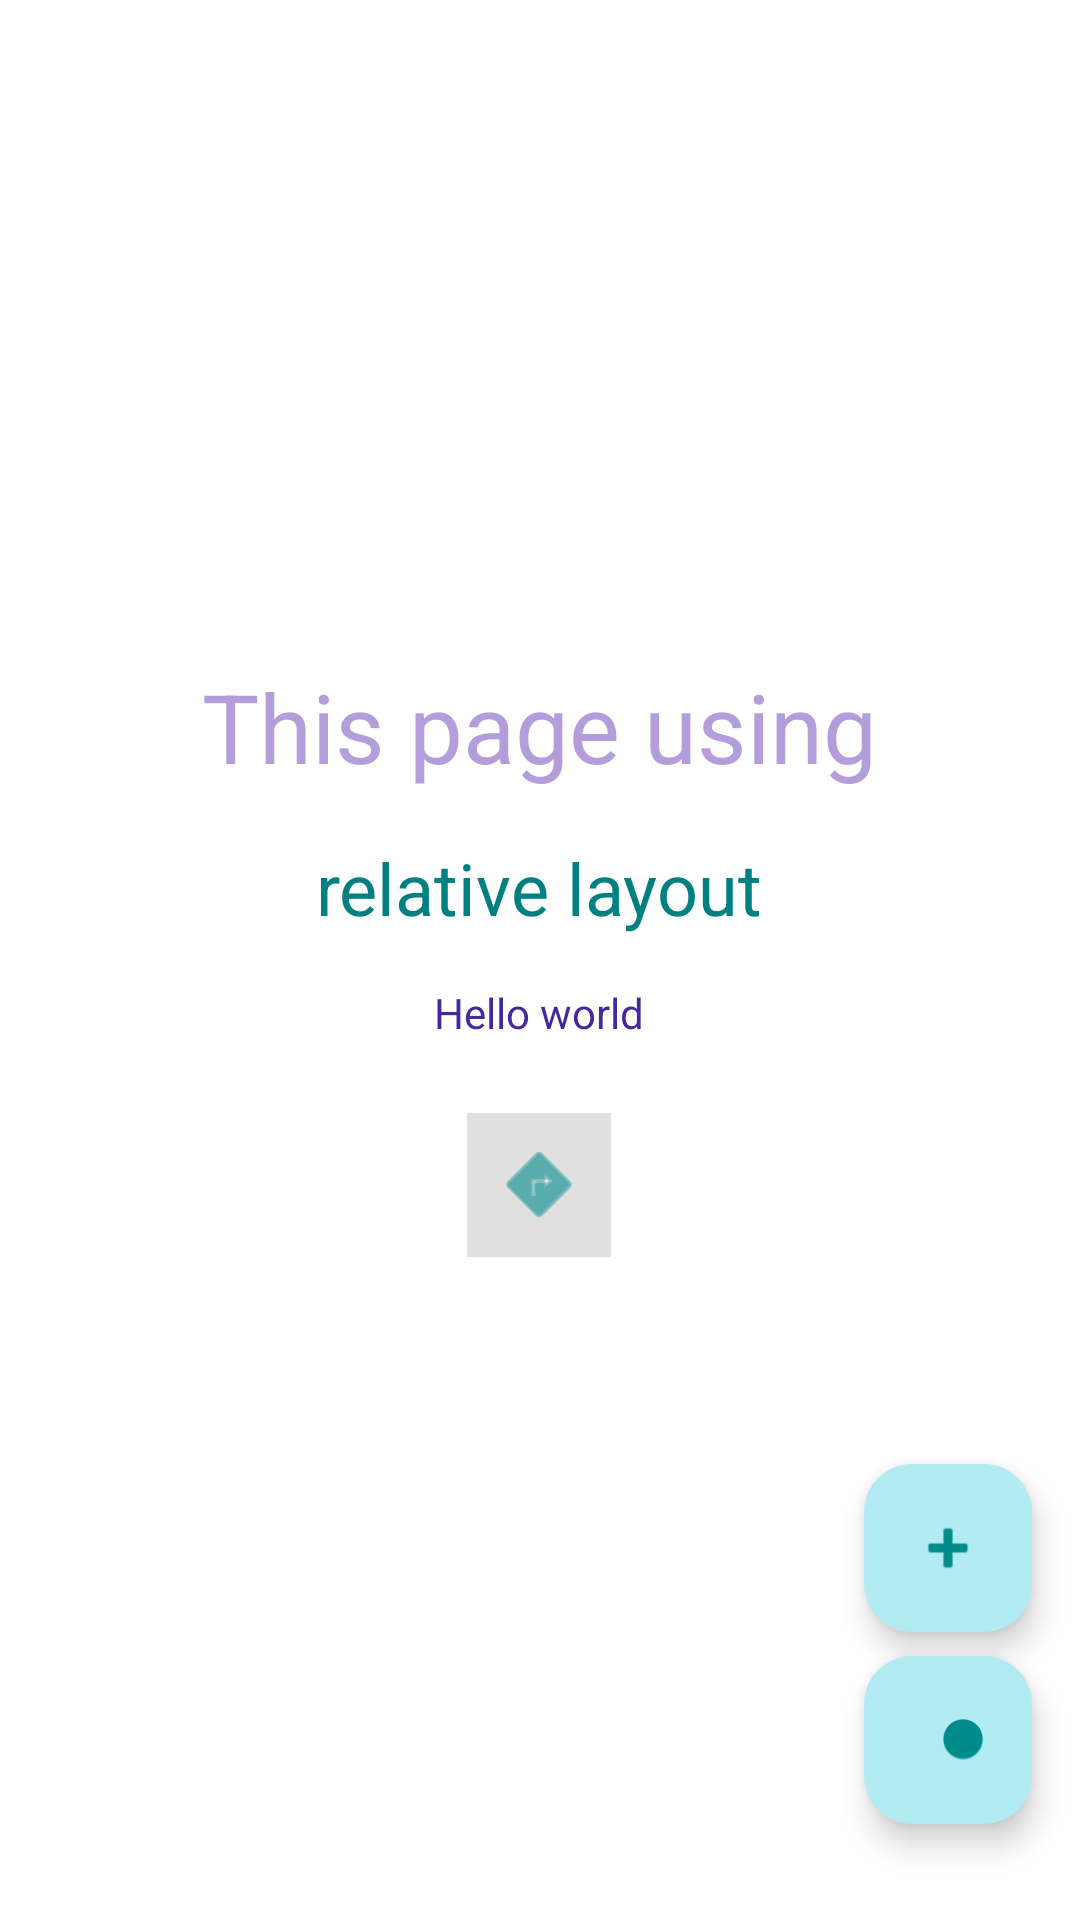

Locate icon controls on the screen. Image size 1080w x 1920h, boxes as bbox=(x1, y1, x2, y2).
add: bbox=(864, 1464, 1032, 1632)
